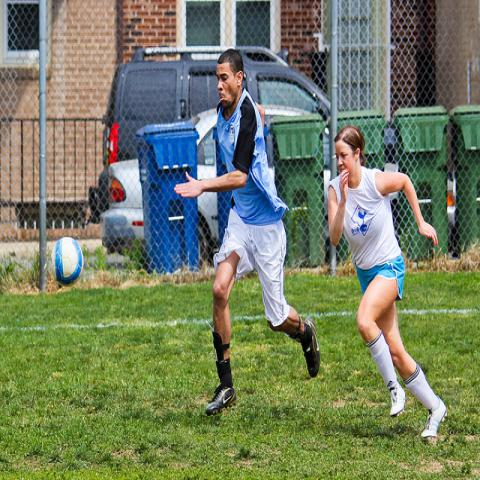car: (103, 46, 332, 166), (100, 107, 216, 243)
